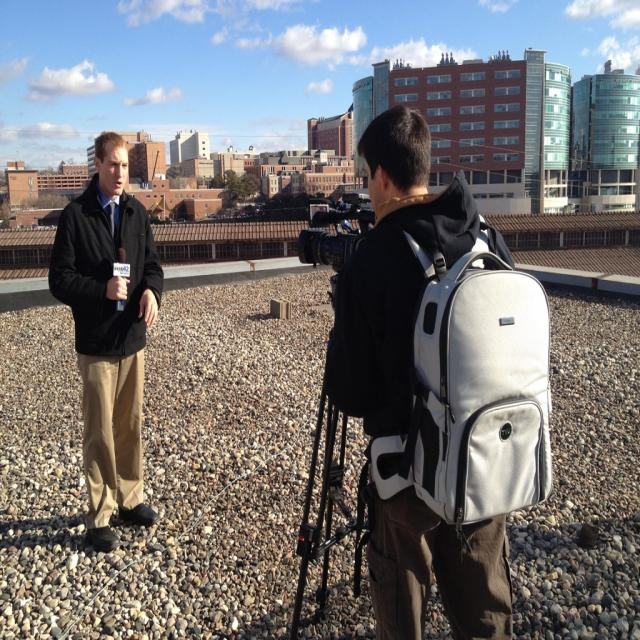backpack: (372, 219, 557, 520)
